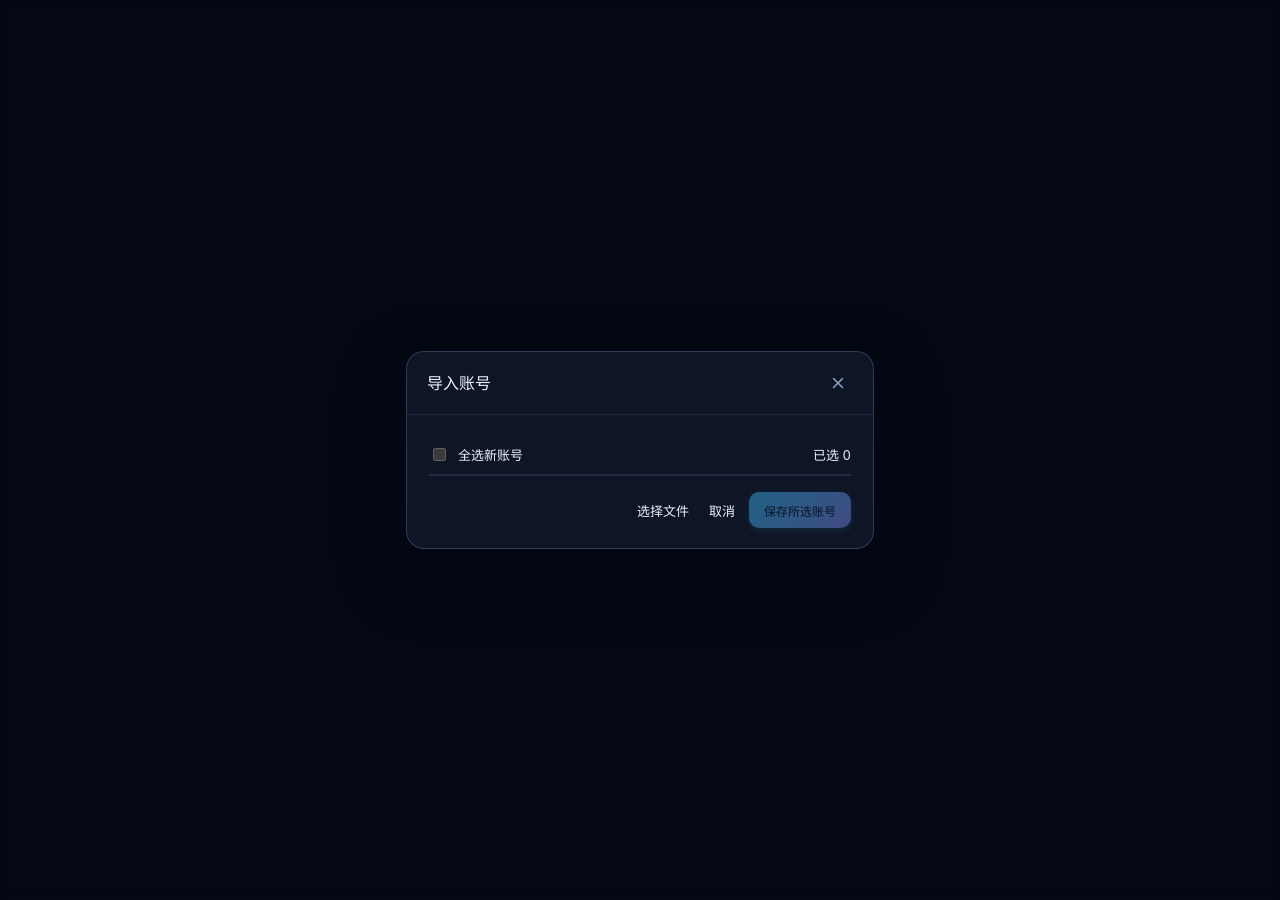
does not submit after the import picker is cancelled and allows another file selection
Expected: the button "保存所选账号" is disabled, [749,492,851,528]
Click the button "选择文件" at (663, 510), box [631,492,695,528]
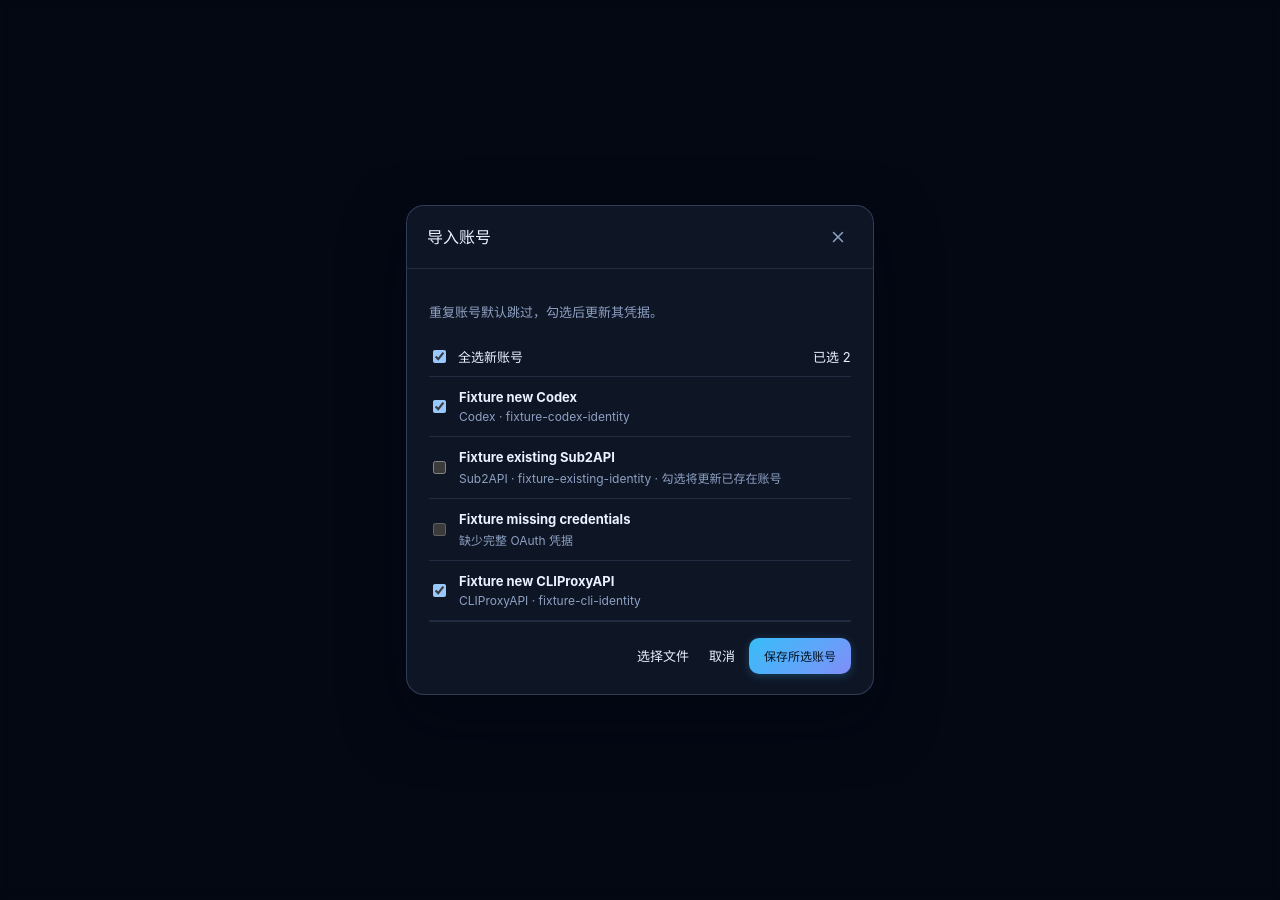
Now the checkbox labelled "Fixture new Codex Codex · fixture-codex-identity" is checked, box [433,400,446,413]
